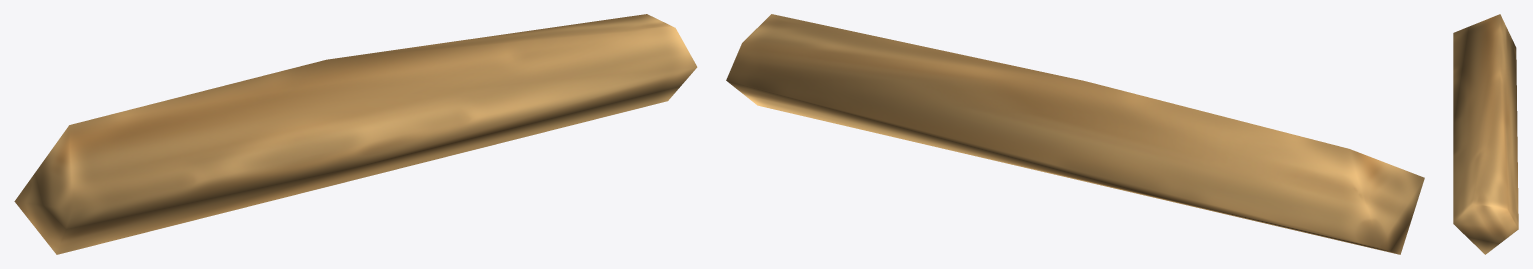
Rendered from Firewood_B.fbx.
The picture shows the model from 3 angles, left to right: view 1: azimuth 30°, elevation 25°; view 2: azimuth 150°, elevation 25°; view 3: azimuth 270°, elevation 25°; orthographic projection. The views are drawn at different scales.
Visible parts, largest first — view 1: U_Firewood_B; view 2: U_Firewood_B; view 3: U_Firewood_B.
Boxes of the visible parts, <box> form: U_Firewood_B: <box>14,14,697,254</box>; U_Firewood_B: <box>726,14,1424,254</box>; U_Firewood_B: <box>1453,14,1518,254</box>.
Bounding box in the file's own units: 120 × 20.59 × 17.75.
1 material, 1 textured.
